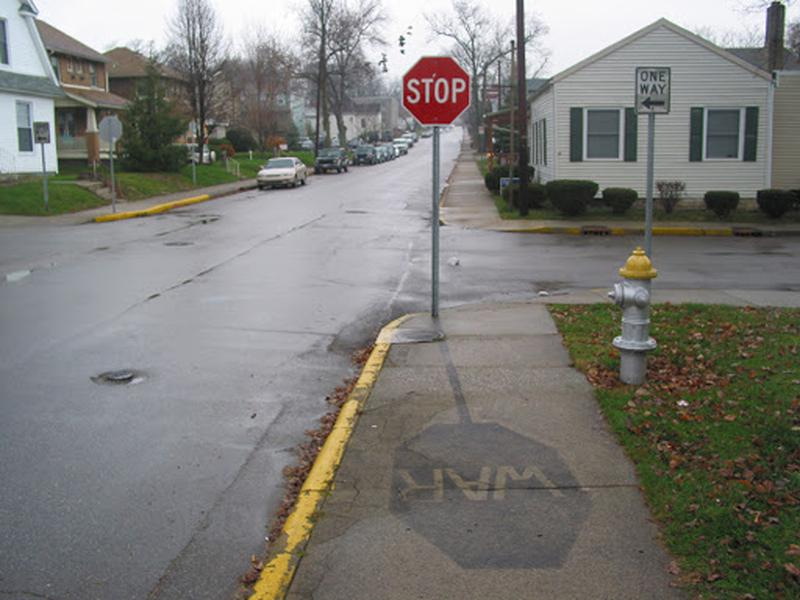stop: (392, 53, 476, 128)
